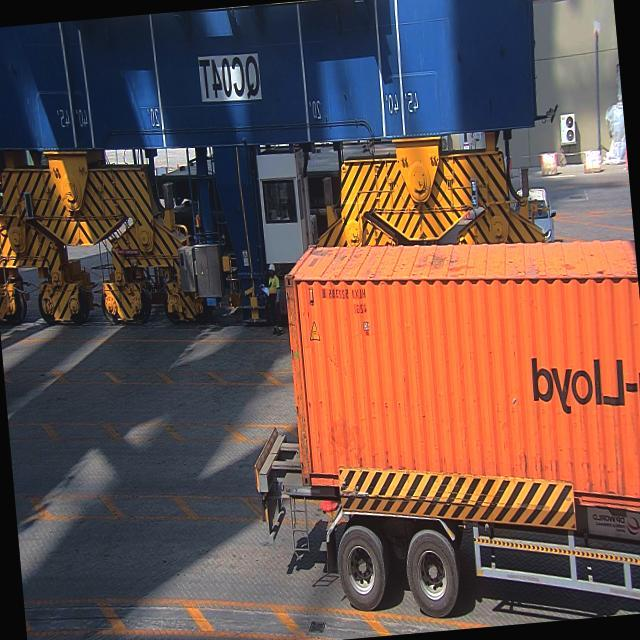rust: (277, 262, 320, 487)
